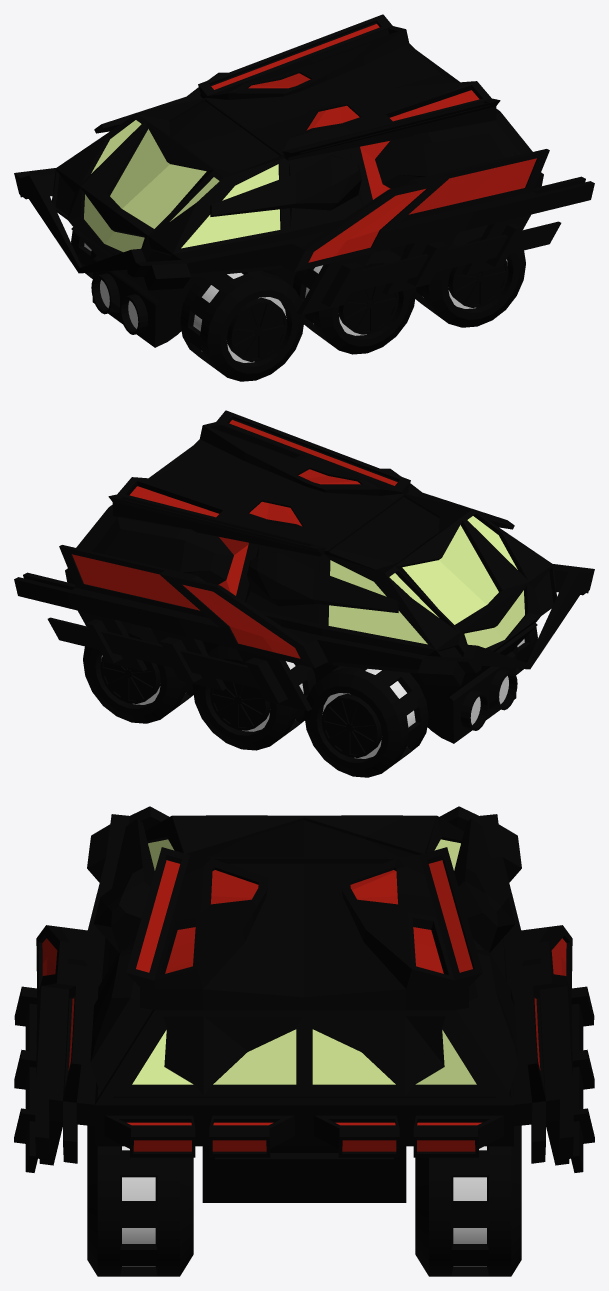
The model's file is SimpleCar4.fbx.
3 views of the same model, one above another, from view 1: azimuth 30°, elevation 25°; view 2: azimuth 150°, elevation 25°; view 3: azimuth 270°, elevation 25° (orthographic). The views are drawn at different scales.
Visible parts, largest first — view 1: Cabine, Wheeels.003, Wheeels.002, Wheeels.001; view 2: Cabine, Wheeels.003, Wheeels.002, Wheeels.001; view 3: Cabine, Wheeels.001.
Boxes of the visible parts, x1,y1,x2,y2 form: Cabine: (14,14,594,347); Wheeels.003: (71,231,304,381); Wheeels.002: (292,249,416,354); Wheeels.001: (403,225,525,327); Cabine: (14,410,594,743); Wheeels.003: (304,627,537,777); Wheeels.002: (192,645,316,750); Wheeels.001: (83,621,205,723); Cabine: (14,806,594,1202); Wheeels.001: (87,1125,521,1276).
Bounding box in the file's own units: 742 × 352 × 571.
